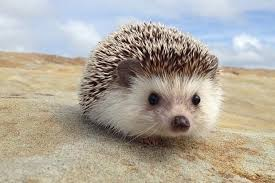hedgehog: (77, 28, 217, 140)
